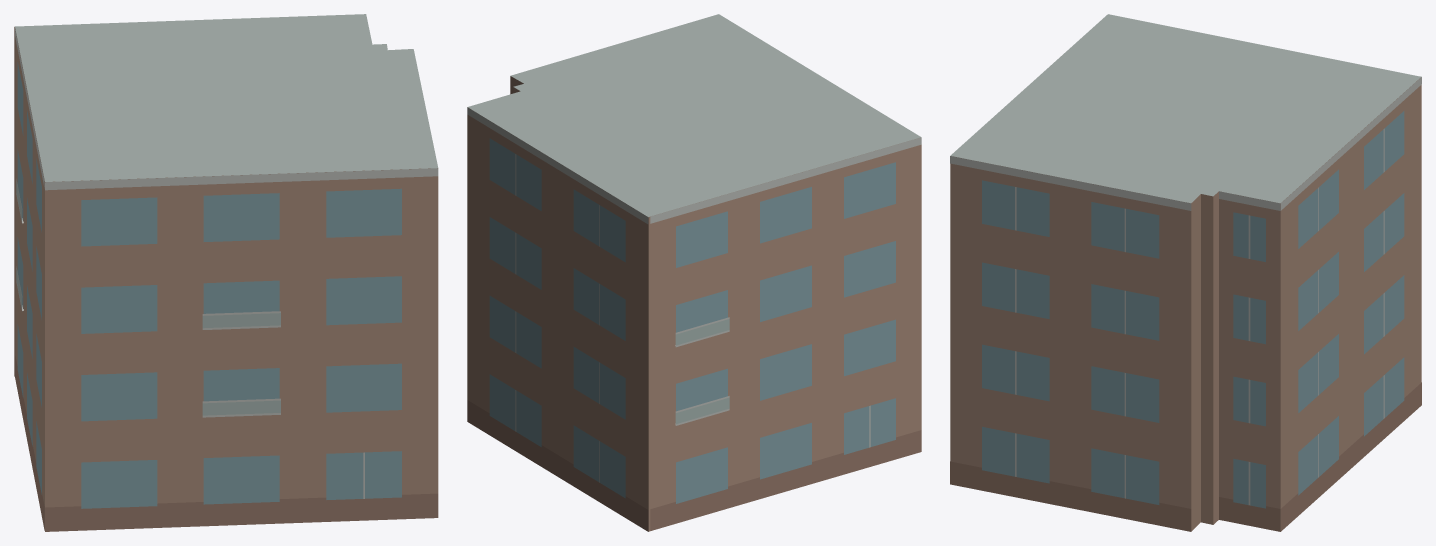
The model's file is survey-upis-32611419.glb.
The picture shows the model from 3 angles, left to right: view 1: azimuth 30°, elevation 25°; view 2: azimuth 150°, elevation 25°; view 3: azimuth 270°, elevation 25°; orthographic projection. The views are drawn at different scales.
Visible parts, largest first — view 1: survey-upis-32611419.tmp; view 2: survey-upis-32611419.tmp; view 3: survey-upis-32611419.tmp.
Boxes of the visible parts, x1,y1,x2,y2 form: survey-upis-32611419.tmp: (14,14,438,531); survey-upis-32611419.tmp: (467,14,921,531); survey-upis-32611419.tmp: (950,14,1421,531).
Bounding box in the file's own units: 12.86 × 10.4 × 13.54.
